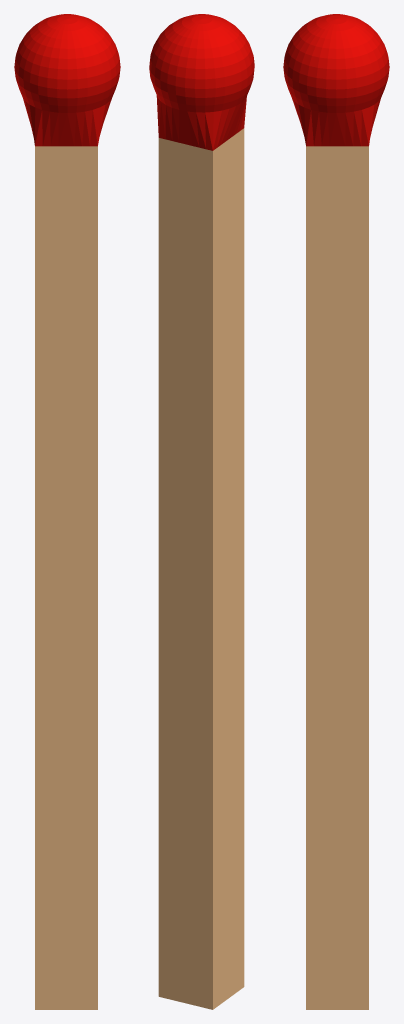
File: Match.fbx
The picture shows the model from 3 angles, left to right: view 1: azimuth 90°, elevation 25°; view 2: azimuth 150°, elevation 25°; view 3: azimuth 270°, elevation 25°; orthographic projection.
Visible parts, largest first — view 1: Match; view 2: Match; view 3: Match.
Part boxes in pixels (box(x1,y1,x2,y2)): Match: box(14, 14, 120, 1009); Match: box(149, 14, 254, 1009); Match: box(283, 14, 389, 1009).
Bounding box in the file's own units: 26.58 × 270 × 26.58.
